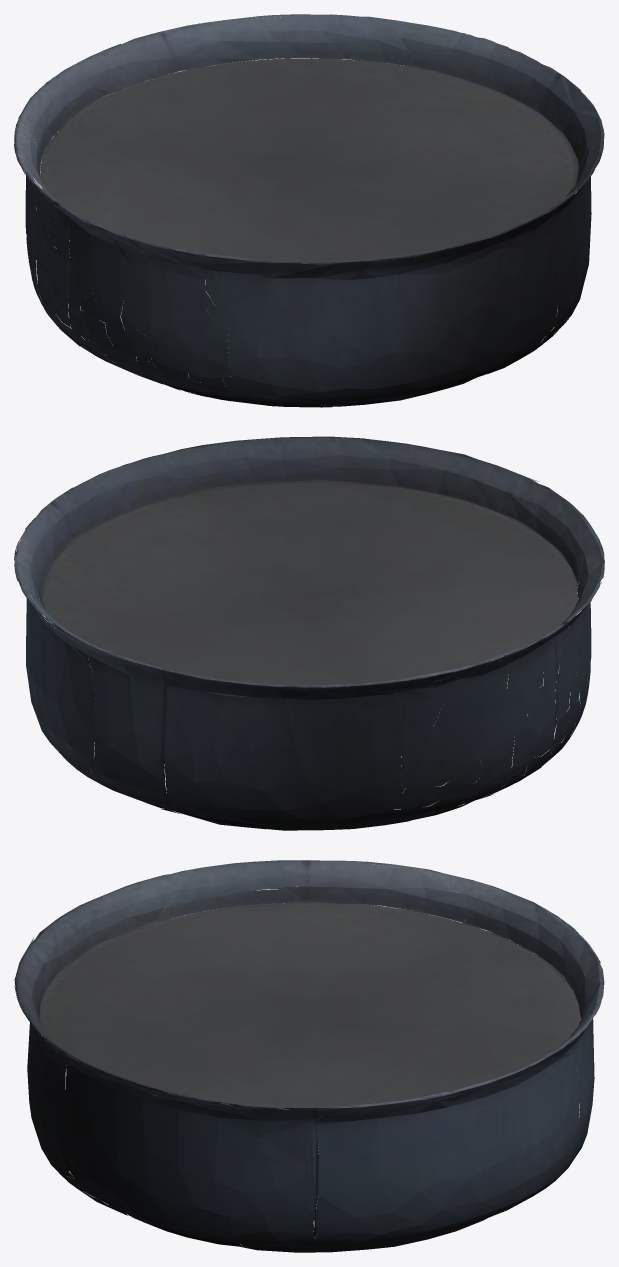
File: coffee-table-dark.glb
3 views of the same model, one above another, from view 1: azimuth 30°, elevation 25°; view 2: azimuth 150°, elevation 25°; view 3: azimuth 270°, elevation 25° (orthographic).
Parts seen in each view (by area): view 1: geometry_0; view 2: geometry_0; view 3: geometry_0.
Part boxes in pixels (box(x1,y1,x2,y2)): geometry_0: box(14, 14, 604, 407); geometry_0: box(14, 436, 604, 830); geometry_0: box(14, 860, 604, 1252).
Size of the model in its own units: 0.9981 by 0.3275 by 1.
Materials: 1 (1 with a texture image).
